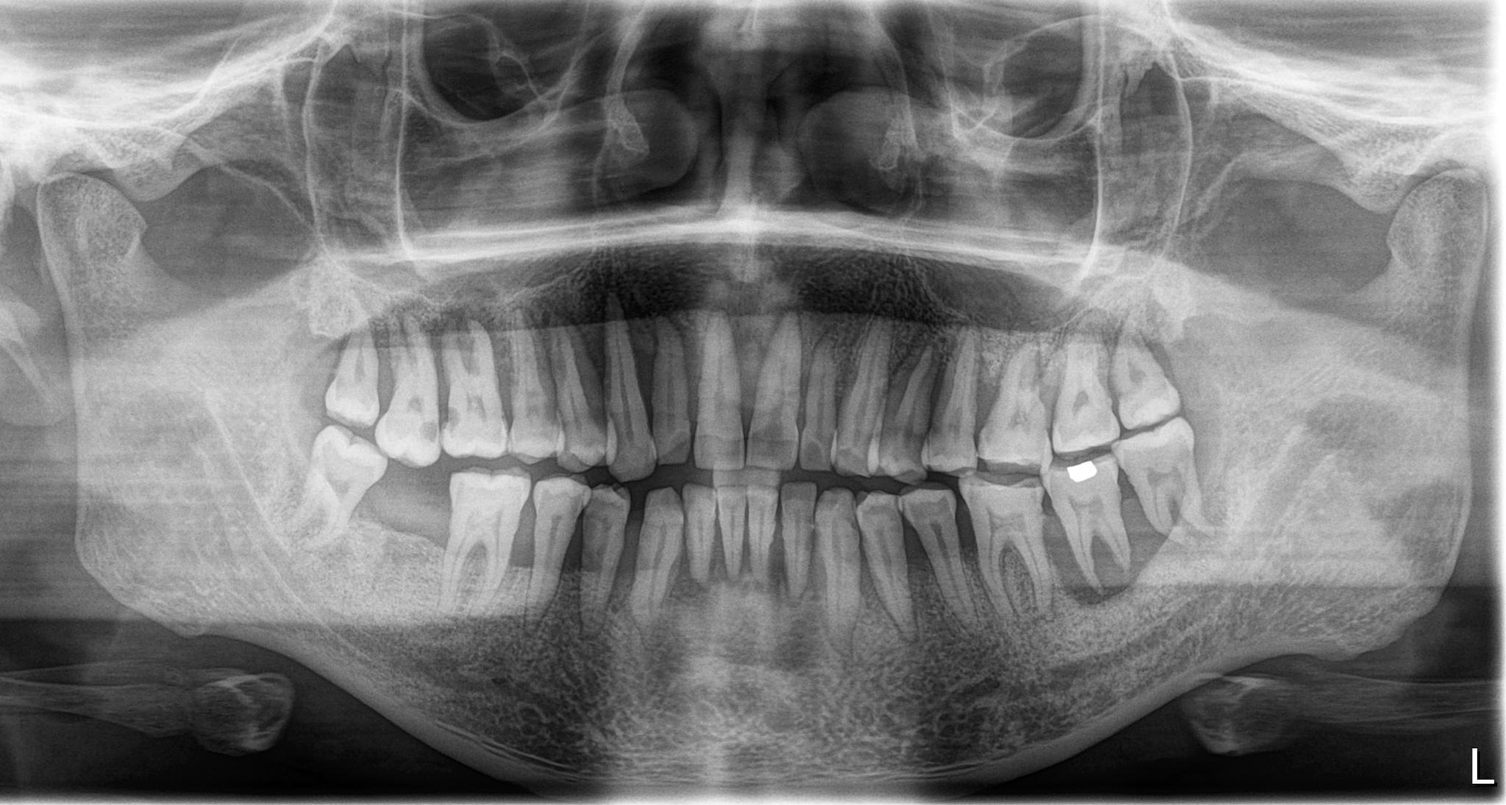Endodontically Treated Tooth: (1055, 461, 1126, 500)
Missing Tooth: (382, 469, 452, 583)
Periapical Lesion: (1037, 527, 1226, 597)
